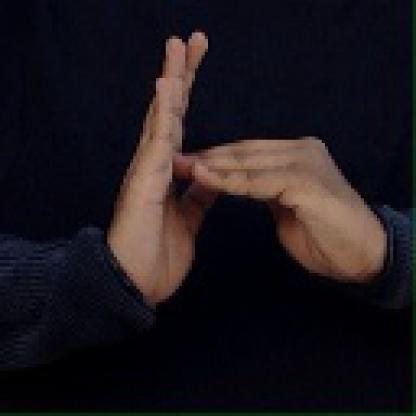Z: (115, 26, 354, 307)
